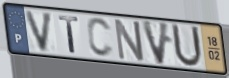C: (85, 16, 116, 60)
N: (113, 16, 146, 63)
T: (57, 14, 81, 55)
U: (170, 22, 204, 70)
V: (140, 18, 172, 67), (23, 9, 55, 54)
